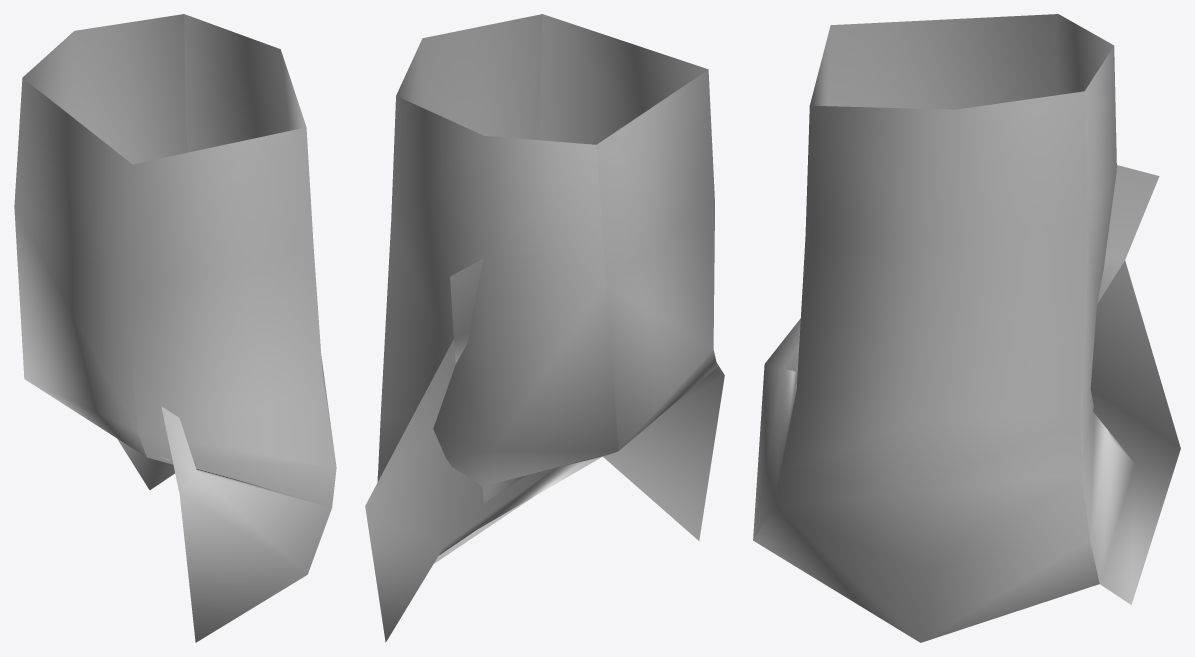
File: left_arm.glb
3 views of the same model, side by side, from view 1: azimuth 30°, elevation 25°; view 2: azimuth 150°, elevation 25°; view 3: azimuth 270°, elevation 25° (orthographic). The views are drawn at different scales.
Visible parts, largest first — view 1: polo-white_LEFT_ARM; view 2: polo-white_LEFT_ARM; view 3: polo-white_LEFT_ARM.
Boxes of the visible parts, box(x1,y1,x2,y2) form: polo-white_LEFT_ARM: box(14, 14, 336, 642); polo-white_LEFT_ARM: box(365, 14, 724, 642); polo-white_LEFT_ARM: box(753, 14, 1180, 642).
Size of the model in its own units: 0.1307 by 0.252 by 0.1839.
Materials: 1 (1 with a texture image).
